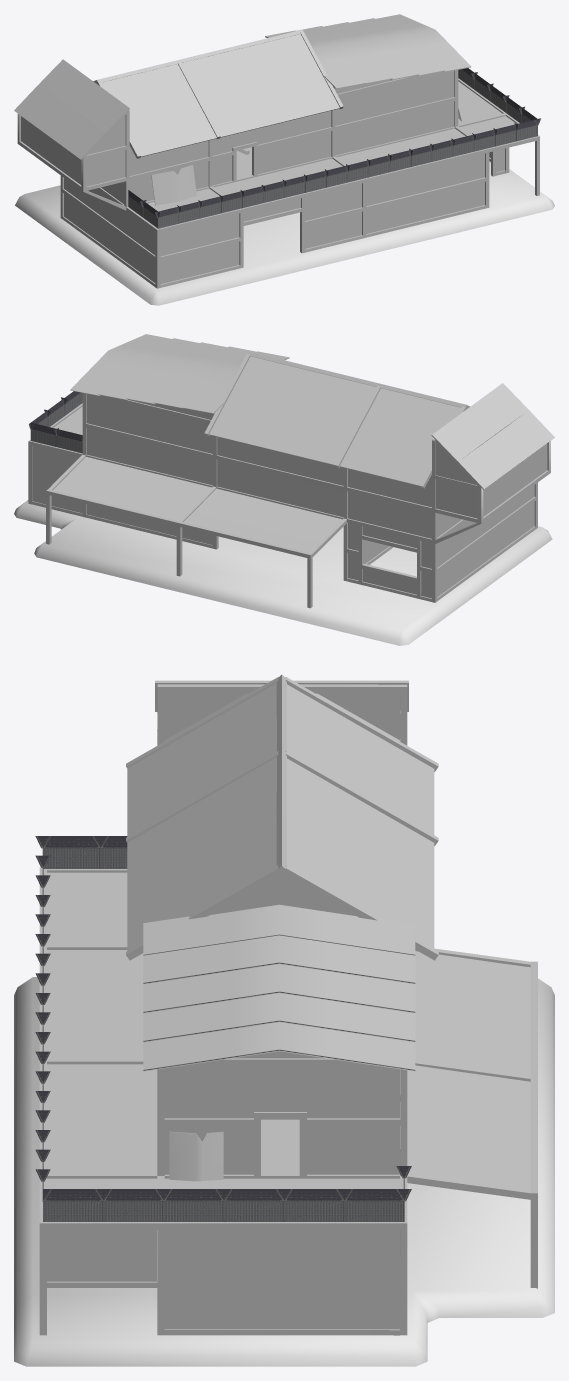
File: Containers.fbx
3 renders of one model, top to bottom at view 1: azimuth 30°, elevation 25°; view 2: azimuth 150°, elevation 25°; view 3: azimuth 270°, elevation 25°, orthographic. The views are drawn at different scales.
Parts seen in each view (by area): view 1: Plane.020, Cube.001, Plane.023, Plane.007, Plane.025, Plane.005, Plane.024; view 2: Plane.020, Cube.001, Plane.026, Plane.025, Plane.005; view 3: Plane.020, Cube.001, Plane.025, Plane.024, Plane.022, Plane.023, Plane.021.
Boxes of the visible parts, x1,y1,x2,y2 form: Plane.020: [14, 14, 539, 288]; Cube.001: [15, 161, 554, 305]; Plane.023: [156, 120, 537, 228]; Plane.007: [151, 165, 196, 205]; Plane.025: [458, 68, 540, 135]; Plane.005: [88, 115, 125, 154]; Plane.024: [128, 190, 161, 228]; Plane.020: [28, 334, 554, 608]; Cube.001: [14, 500, 552, 645]; Plane.026: [29, 421, 82, 453]; Plane.025: [32, 391, 82, 426]; Plane.005: [435, 443, 476, 484]; Plane.020: [39, 674, 537, 1335]; Cube.001: [14, 977, 554, 1366]; Plane.025: [43, 1189, 404, 1221]; Plane.024: [43, 836, 127, 868]; Plane.022: [169, 1131, 223, 1181]; Plane.023: [35, 836, 50, 1201]; Plane.021: [210, 874, 356, 916].
Size of the model in its own units: 66.26 by 24.78 by 36.98.
